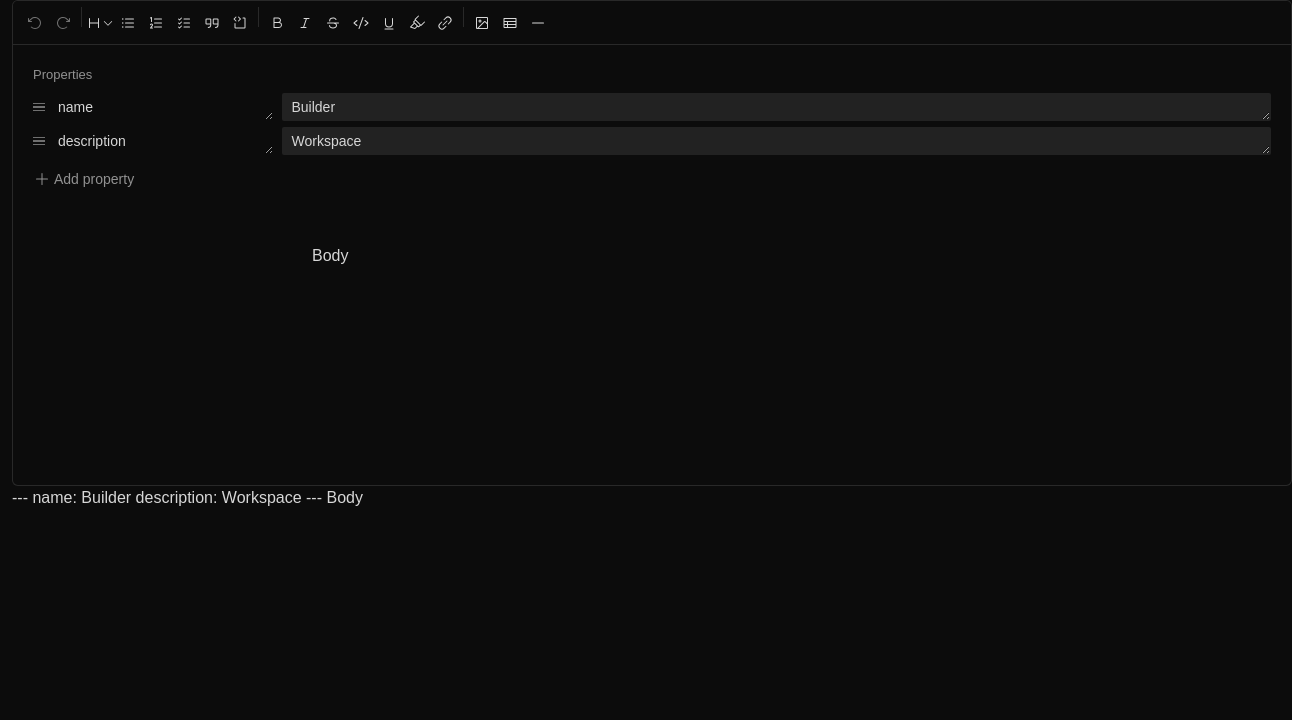
KnowledgeBaseRichEditor › shows validation and leaves Markdown unchanged for duplicate or empty property keys
Replace the text in the text box named "Property key name" with "description": (166, 106) [57, 92, 274, 120]
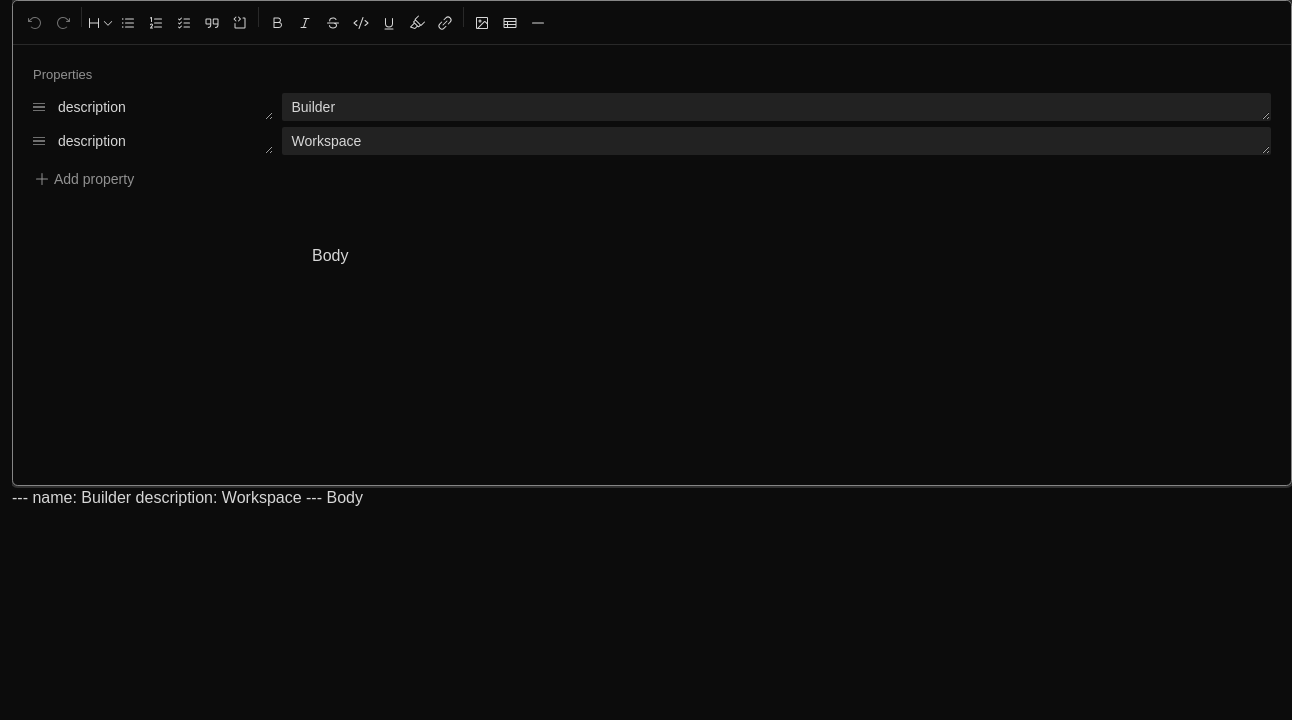
Press Tab
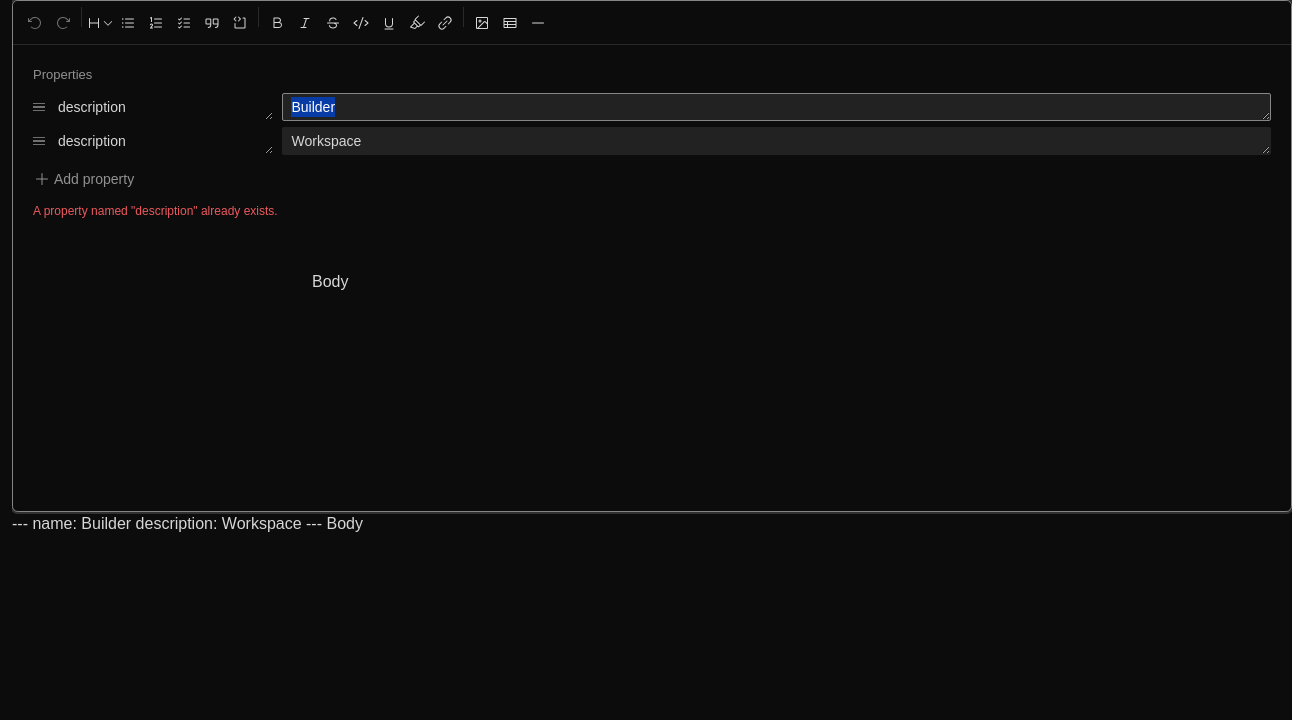
expect the message reads "A property named \"description\" already exists.": met, box [33, 204, 278, 218]
Clear the text box named "Property key name": (166, 106) [57, 92, 274, 120]
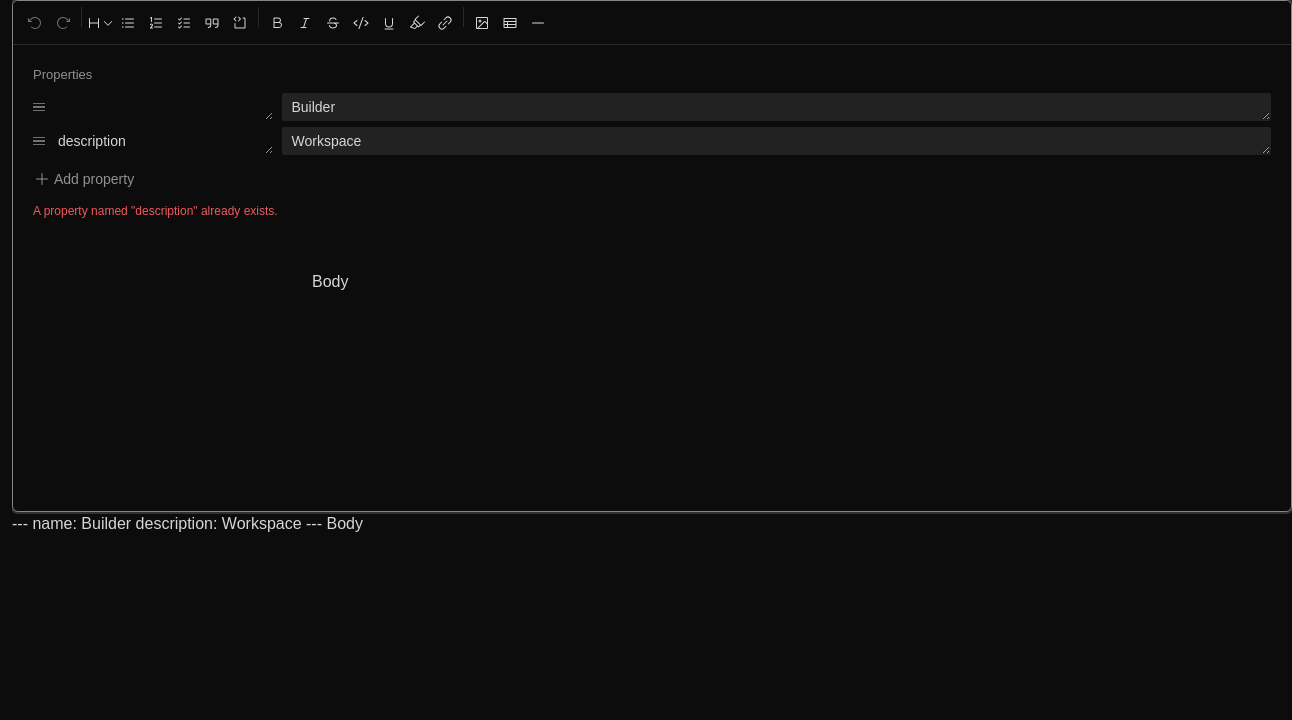
Press Tab
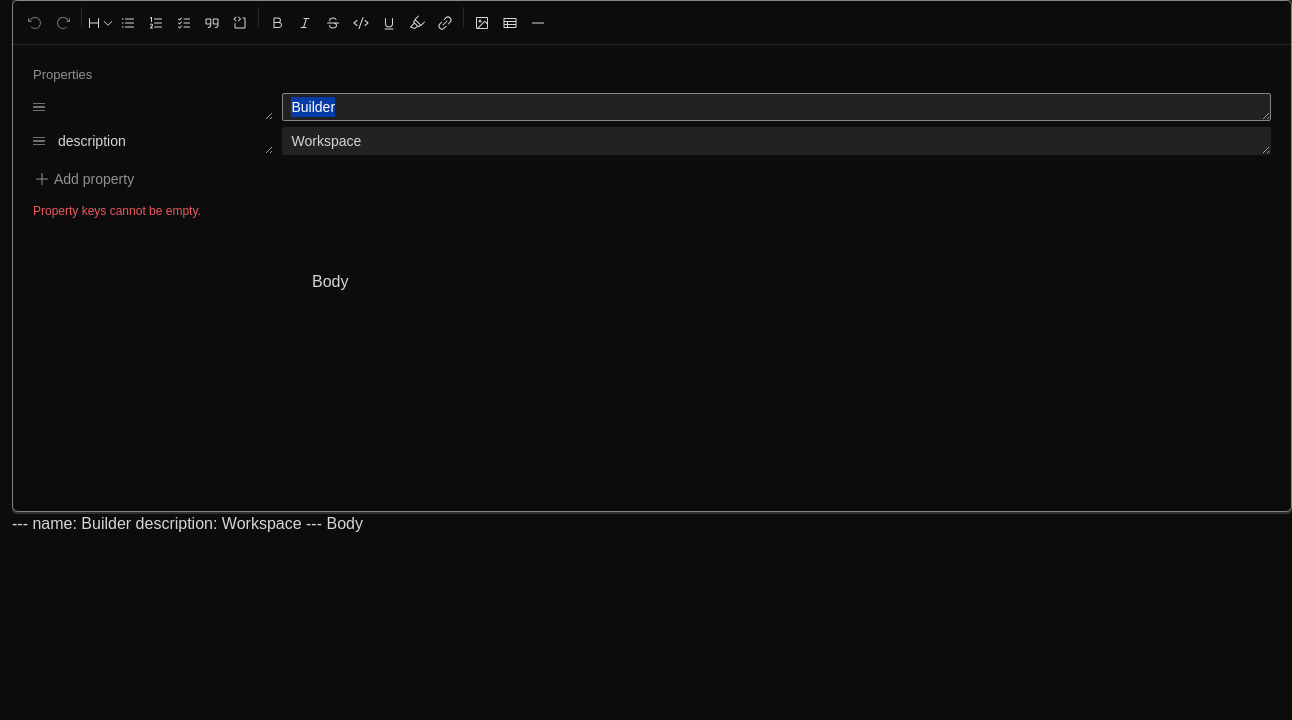
expect the message reads "Property keys cannot be empty.": met, box [33, 204, 201, 218]
